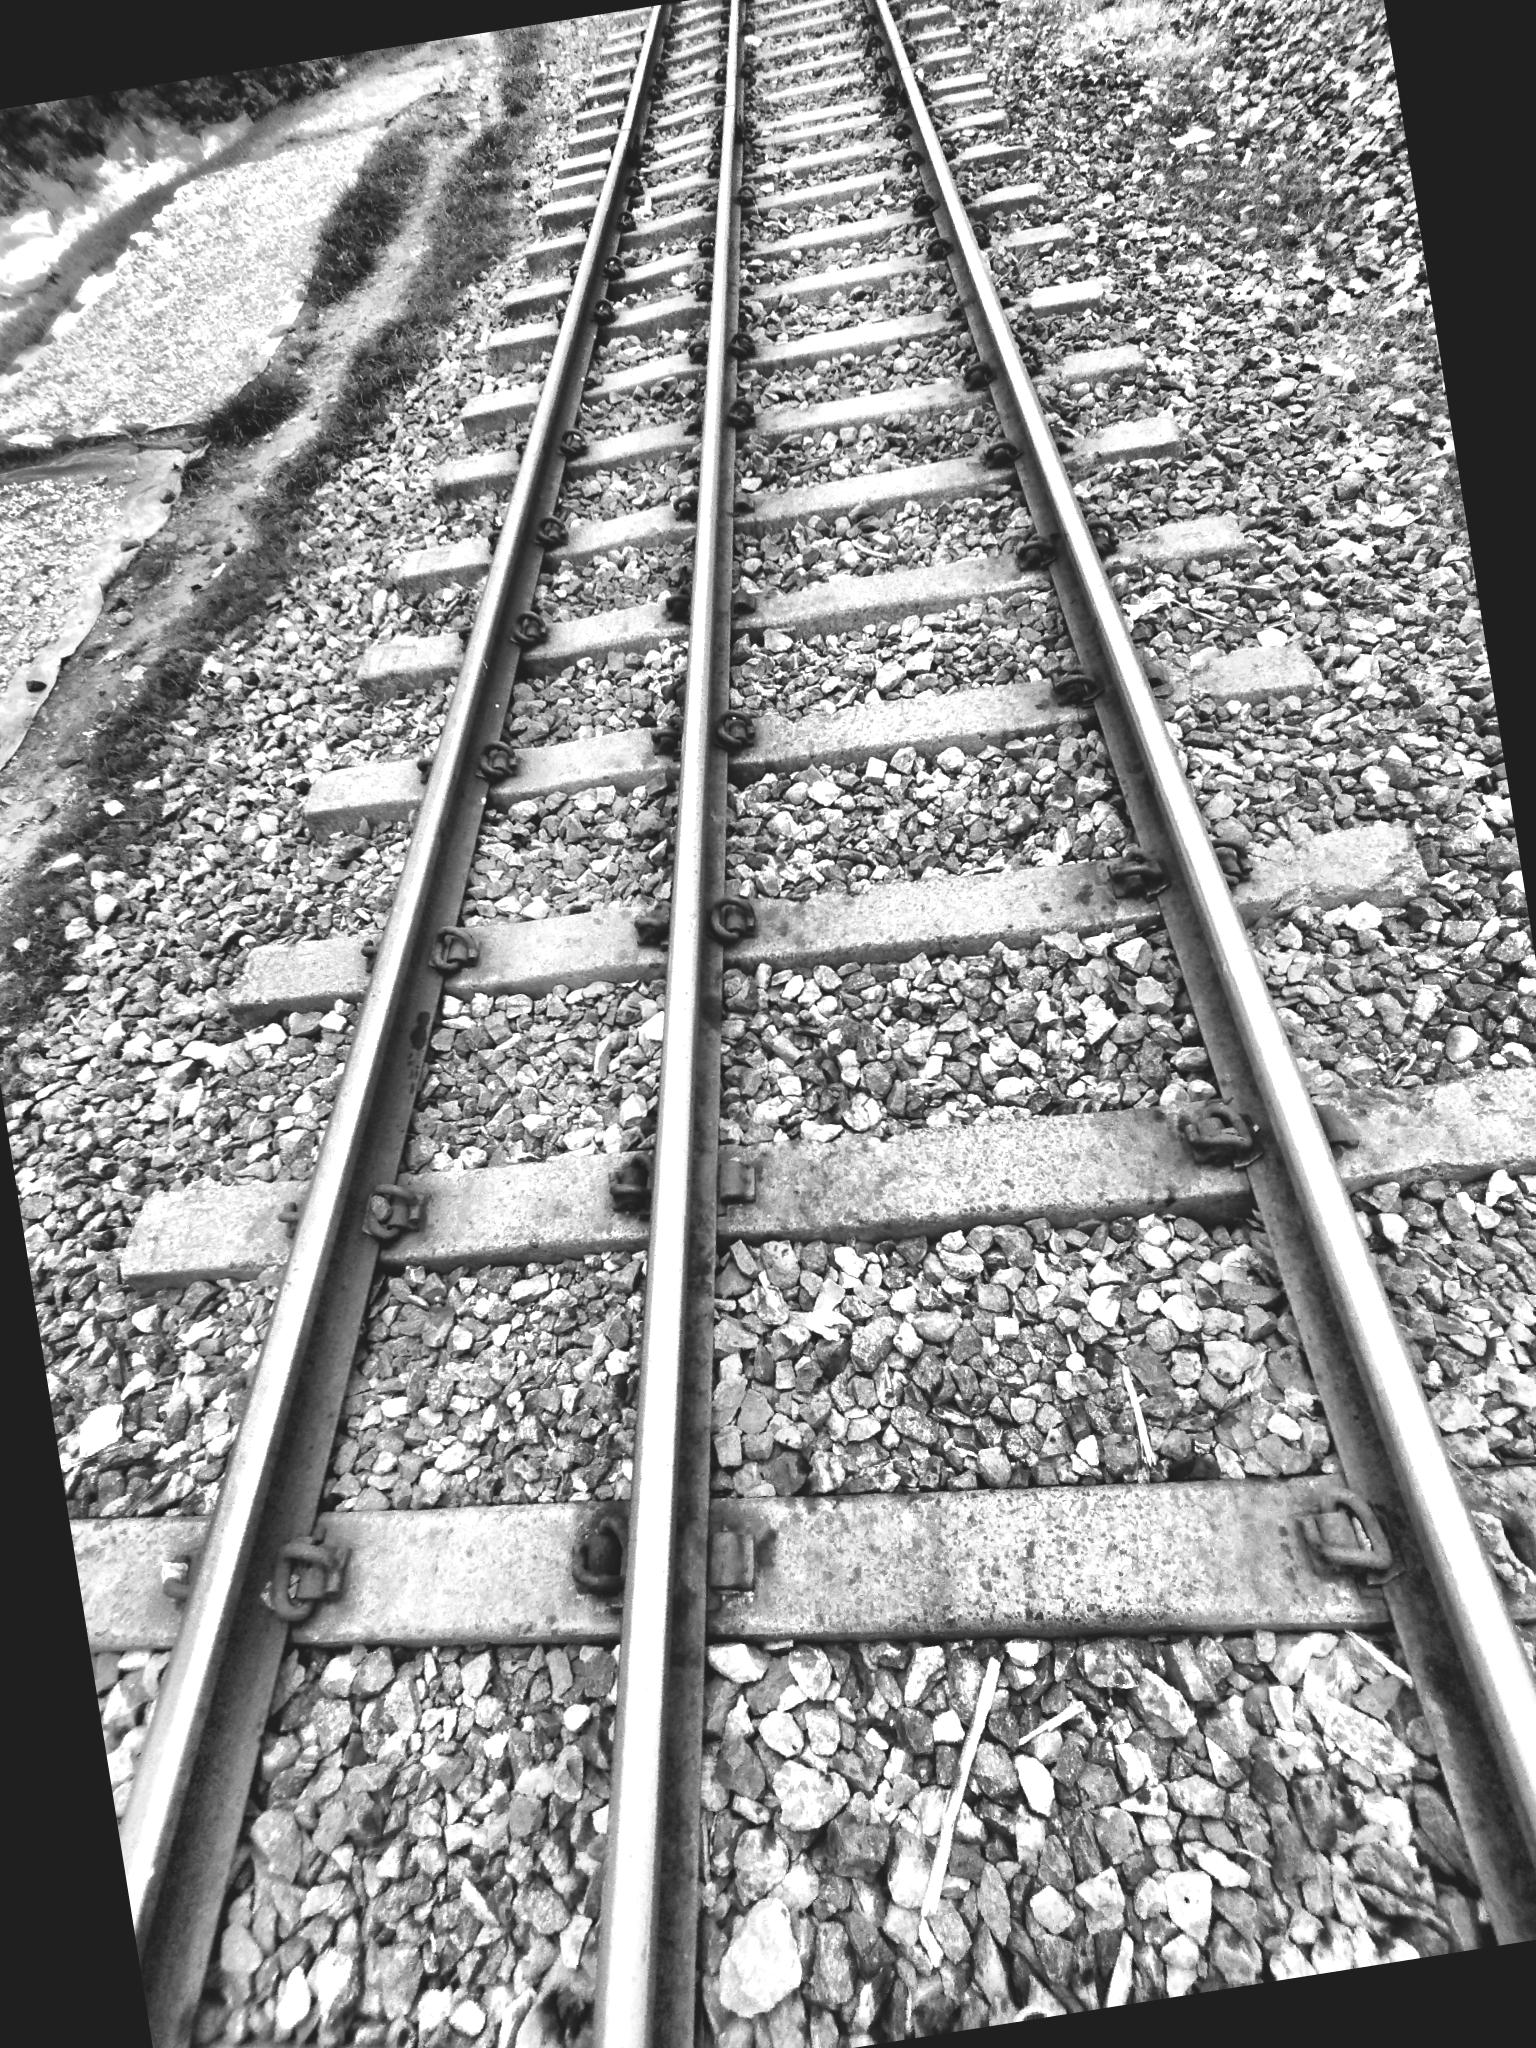Trash: (866, 1637, 1063, 1940)
